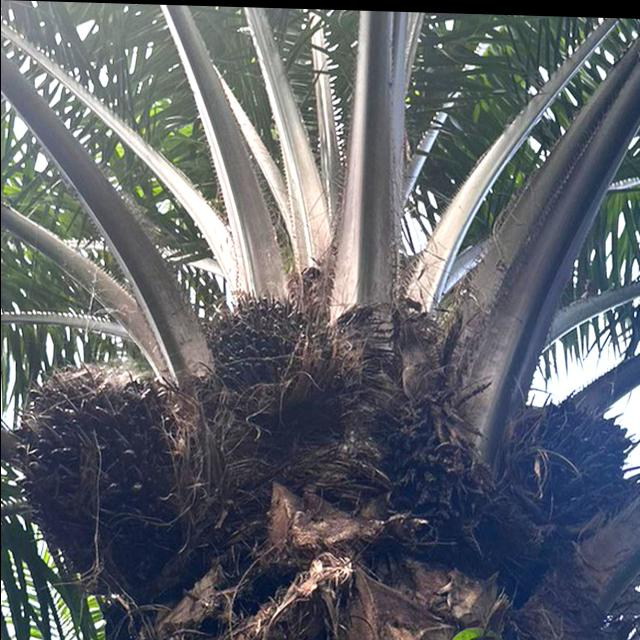unripe: (2, 348, 220, 613), (488, 374, 640, 538), (193, 283, 329, 442)
